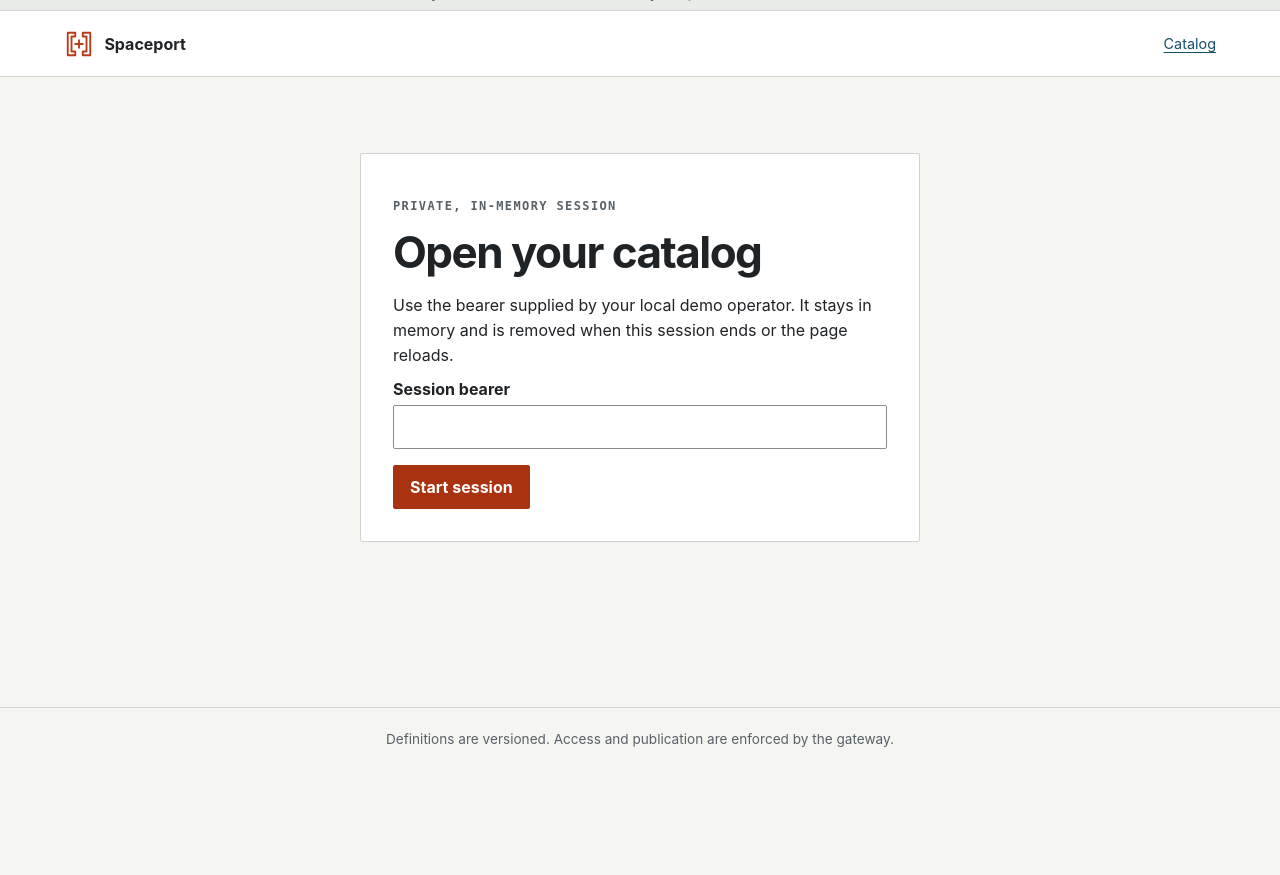
Scenario: removes previously displayed output when a refresh returns another product
Type "synthetic-boundary-session" into the password field labelled "Session bearer" at (640, 427), box [393,405,887,449]
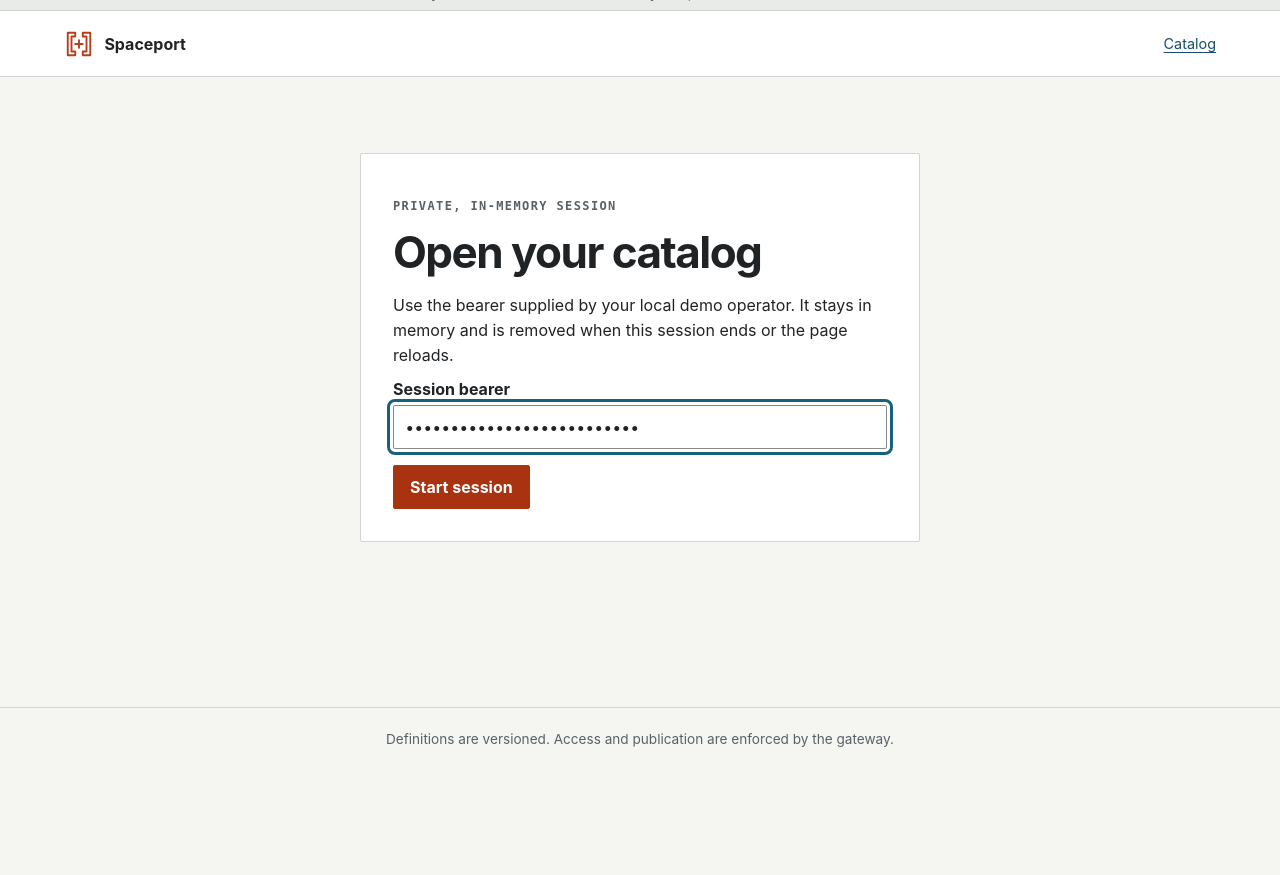
Click the button "Start session" at (461, 487), box [393,465,530,509]
(page scrolled)
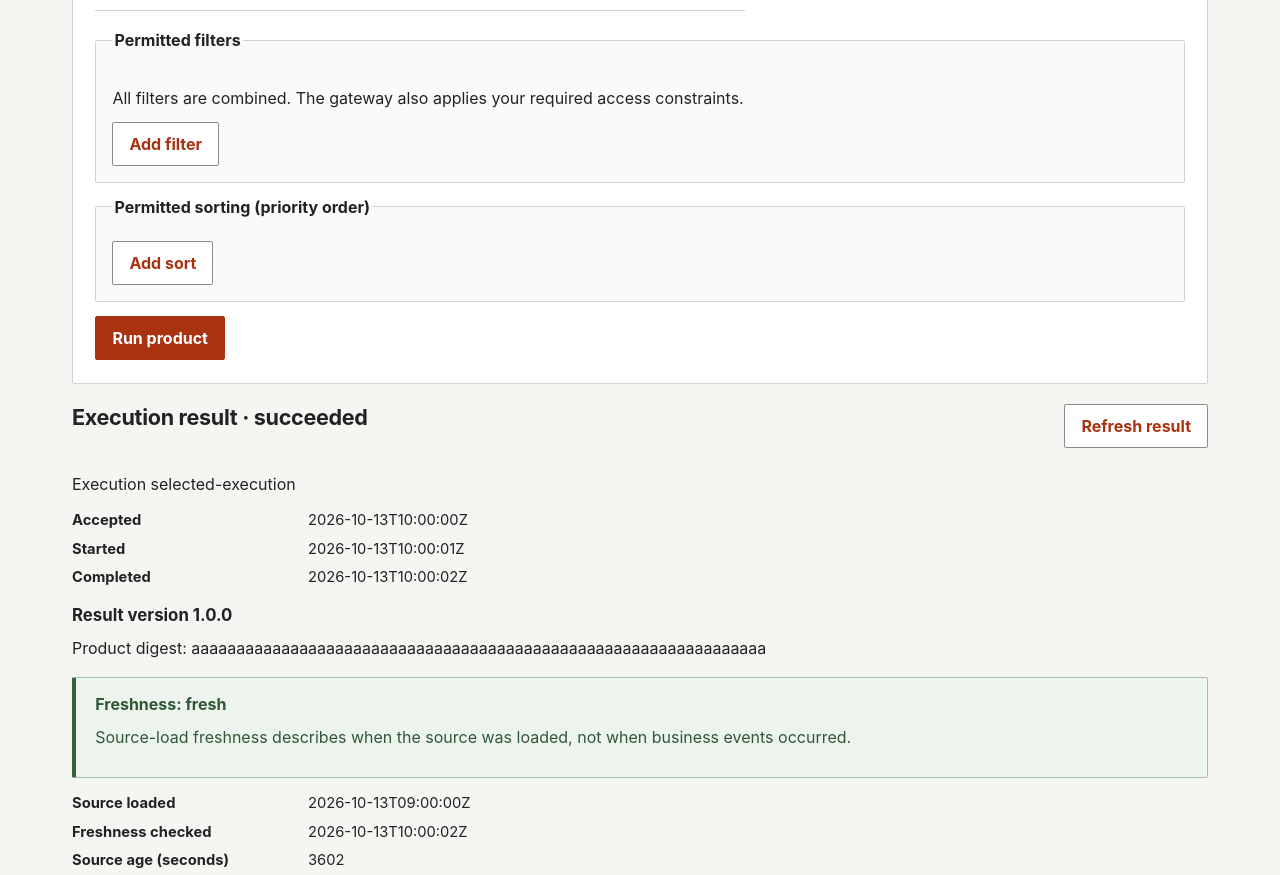
Click the button "Refresh result" at (1136, 426), box [1064,404,1208,448]
(page scrolled)
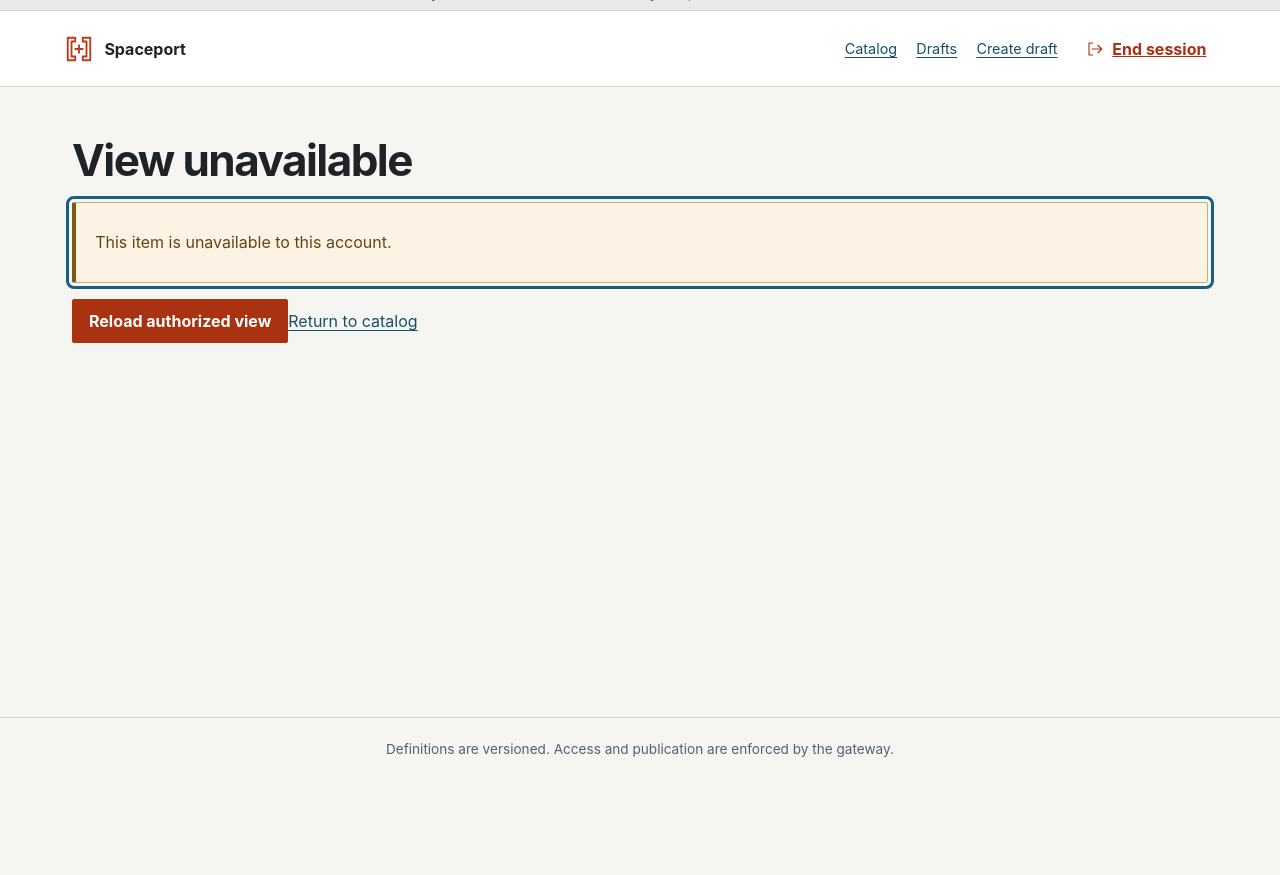
Now the message "This item is unavailable to this account." is shown, box [72,202,1208,283]
Now the text "Freshness: fresh" is gone
